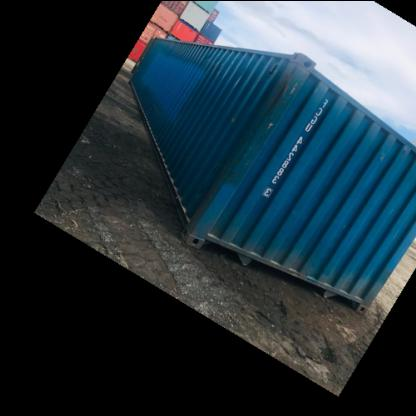Damage: (264, 63, 308, 125), (200, 48, 220, 64), (228, 69, 242, 91), (224, 112, 238, 127)
